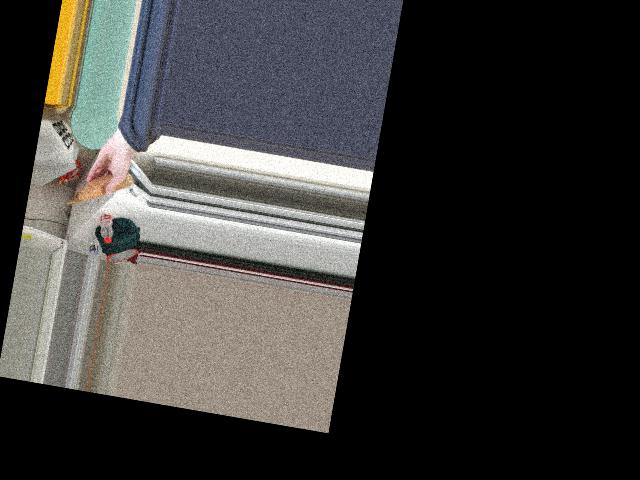sweet_potato: (81, 170, 120, 208)
